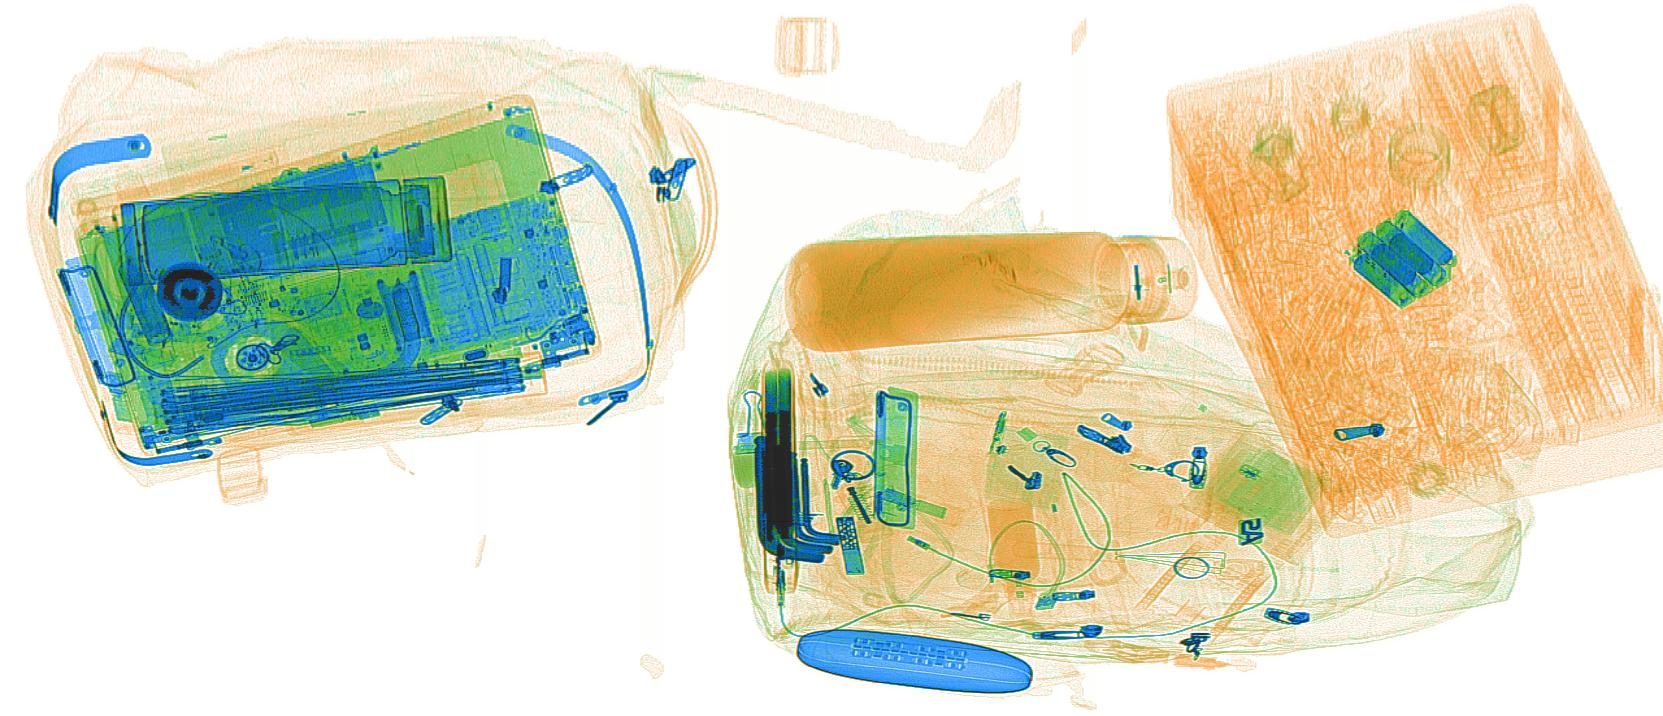battery: (1344, 208, 1457, 310), (117, 255, 172, 345)
plasticBottleWithaNozzle: (985, 501, 1039, 619)
